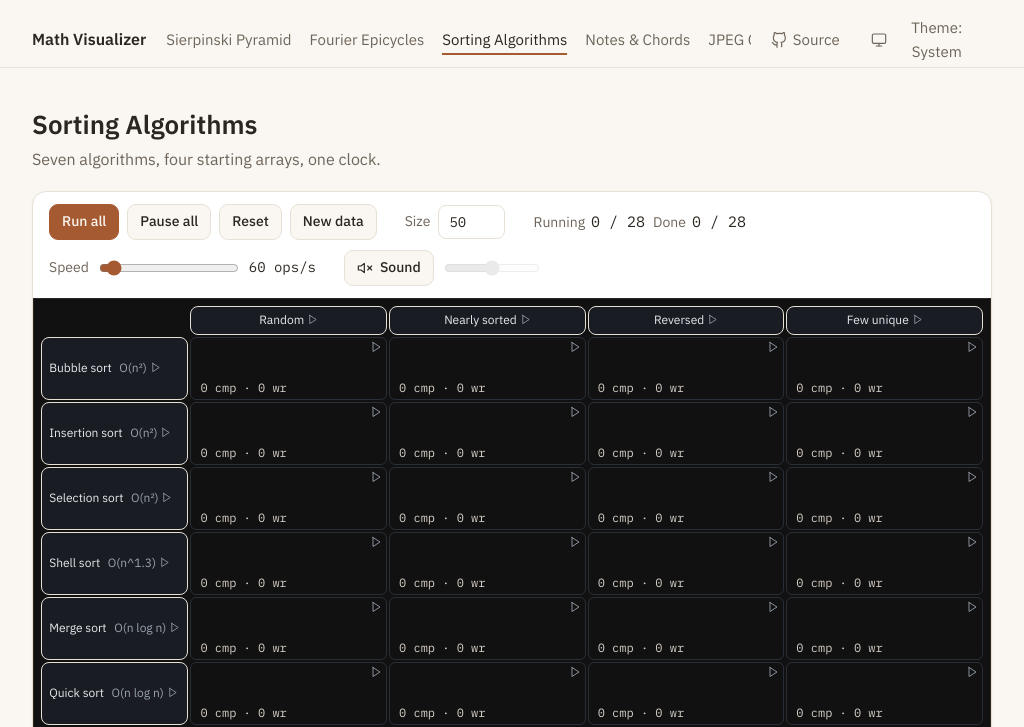
Test case: SortingLab.svelte › changing the speed retunes the engine clock
Set the slider labelled "Speed" to "240" at (136, 268), box top-left (99, 260), bottom-right (239, 276)
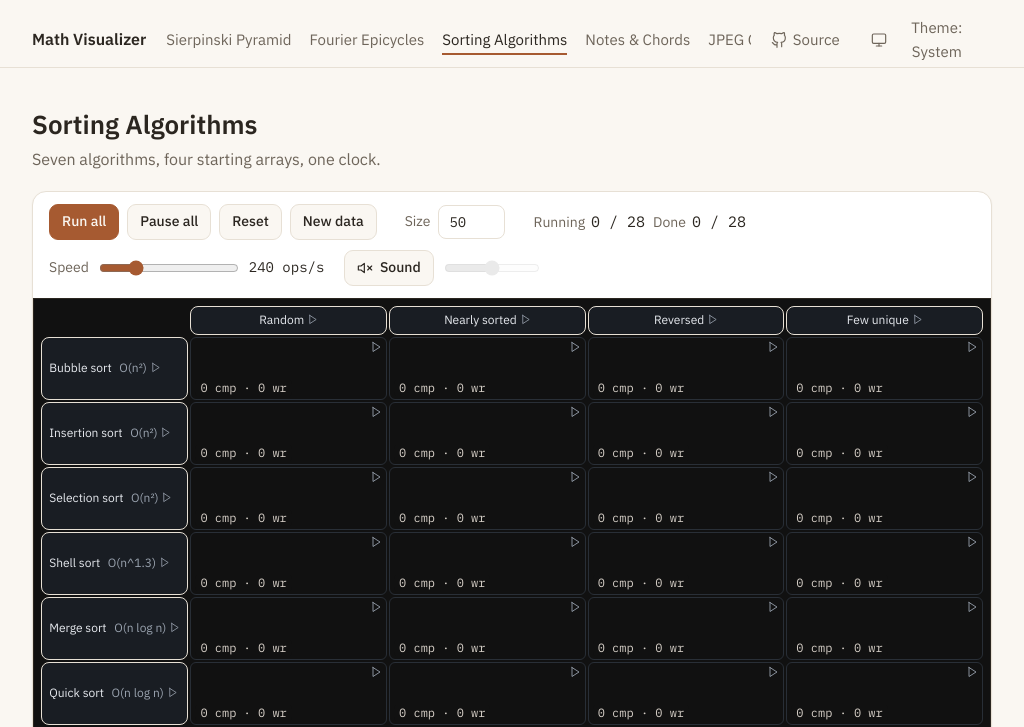
Expected: the text "240 ops/s" is shown, top-left (249, 258), bottom-right (316, 279)
